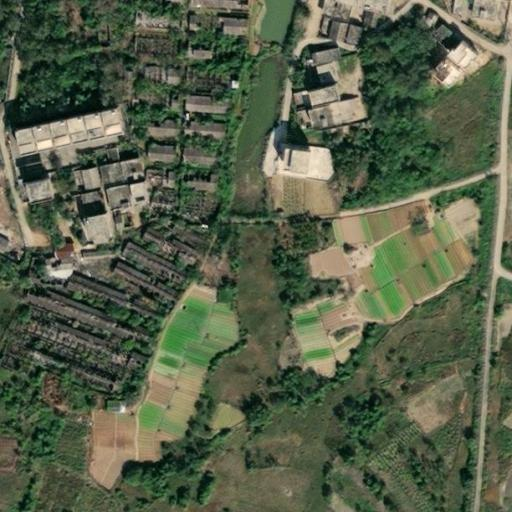building: (21, 287, 121, 336), (25, 341, 108, 384), (106, 260, 175, 301), (59, 274, 124, 306), (40, 318, 103, 351), (141, 249, 186, 277), (273, 147, 311, 180), (23, 322, 68, 348), (158, 235, 196, 264), (317, 0, 355, 25), (426, 17, 456, 47), (141, 60, 182, 81), (171, 94, 215, 112), (163, 222, 198, 244), (99, 341, 133, 363), (304, 105, 331, 132), (439, 41, 466, 68), (424, 59, 451, 86), (121, 298, 157, 318), (84, 216, 112, 241), (309, 88, 340, 109), (15, 183, 43, 206), (57, 116, 78, 146), (76, 191, 101, 216), (74, 112, 96, 140), (177, 120, 214, 136), (40, 121, 61, 149), (92, 108, 112, 137), (71, 166, 94, 191), (100, 185, 123, 210), (118, 238, 145, 259), (309, 62, 332, 86), (113, 158, 136, 182), (325, 101, 346, 127), (175, 170, 209, 186), (171, 199, 203, 216), (23, 128, 44, 152), (93, 163, 114, 186), (118, 321, 144, 339), (7, 130, 26, 154), (175, 145, 212, 157), (307, 49, 333, 66), (127, 183, 145, 207), (140, 144, 167, 160), (141, 165, 165, 182), (319, 22, 339, 42), (130, 23, 154, 37), (144, 121, 169, 134), (285, 91, 303, 109), (63, 194, 77, 217), (339, 27, 354, 47), (355, 11, 371, 29), (221, 13, 239, 29), (71, 250, 97, 261), (0, 228, 12, 250), (20, 162, 38, 176), (53, 242, 65, 263), (298, 64, 309, 86), (147, 189, 163, 204), (96, 398, 115, 410), (181, 41, 193, 56), (309, 18, 319, 35), (97, 148, 109, 160), (139, 227, 152, 238), (222, 0, 236, 10), (182, 14, 189, 29), (332, 125, 340, 133)
